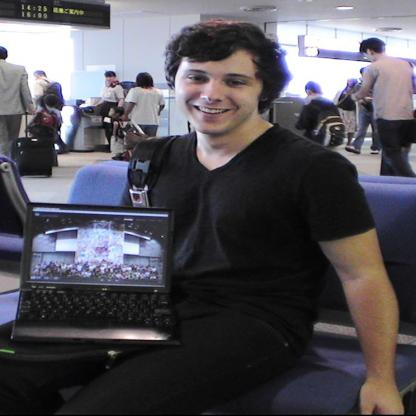board: (13, 193, 185, 353)
